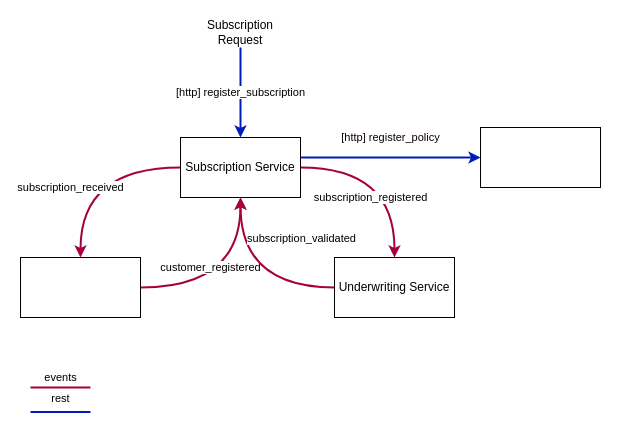
Some shapes in this 618 by 431 pixel diagram are drawn without their labels. The shapes that lost their labels are listed below. From the top down, each one's centre as x and y in pixels, then its label:
At [540,157]: "Policy Management System".
At [80,287]: "Customer Service".
